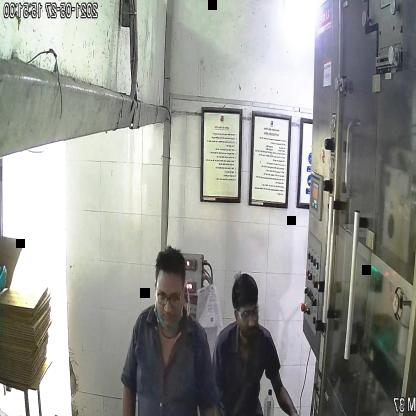goggles: (153, 288, 188, 311), (235, 298, 262, 324)
